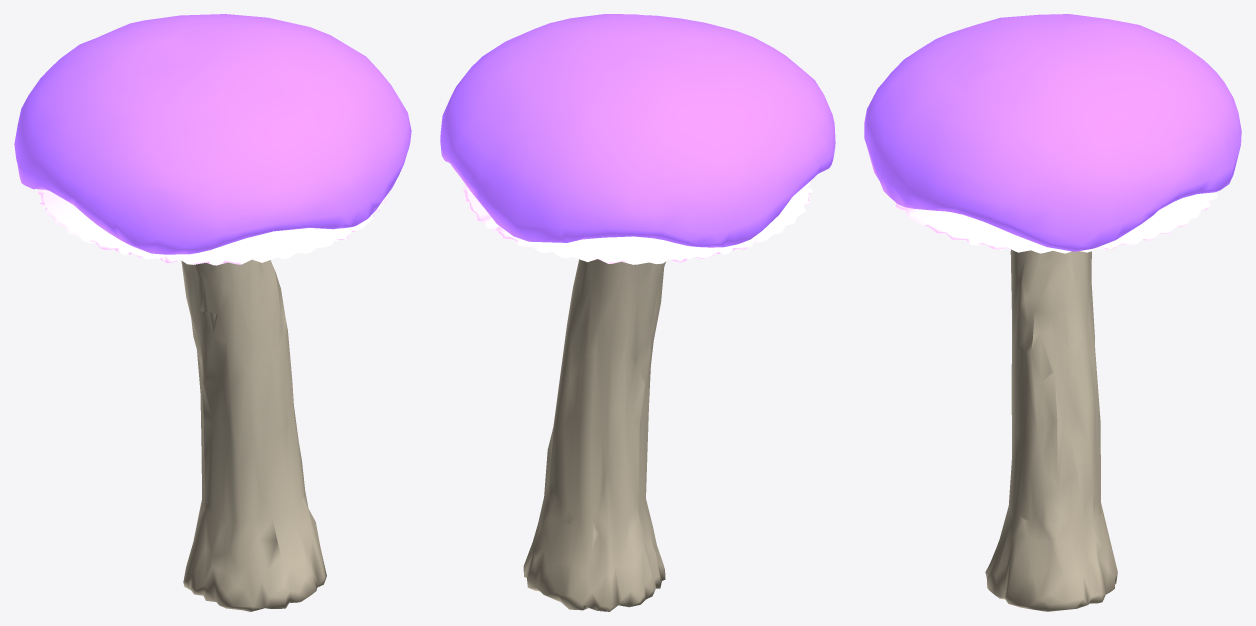
The model's file is glade_mushroom_violet.glb.
The picture shows the model from 3 angles, left to right: view 1: azimuth 30°, elevation 25°; view 2: azimuth 150°, elevation 25°; view 3: azimuth 270°, elevation 25°; orthographic projection. The views are drawn at different scales.
Parts seen in each view (by area): view 1: glade_mushroom_violet; view 2: glade_mushroom_violet; view 3: glade_mushroom_violet.
Part boxes in pixels (x1,y1,x2,y2): glade_mushroom_violet: [14, 14, 411, 611]; glade_mushroom_violet: [440, 14, 835, 611]; glade_mushroom_violet: [864, 14, 1241, 611].
Size of the model in its own units: 8.37 by 13.01 by 8.39.
